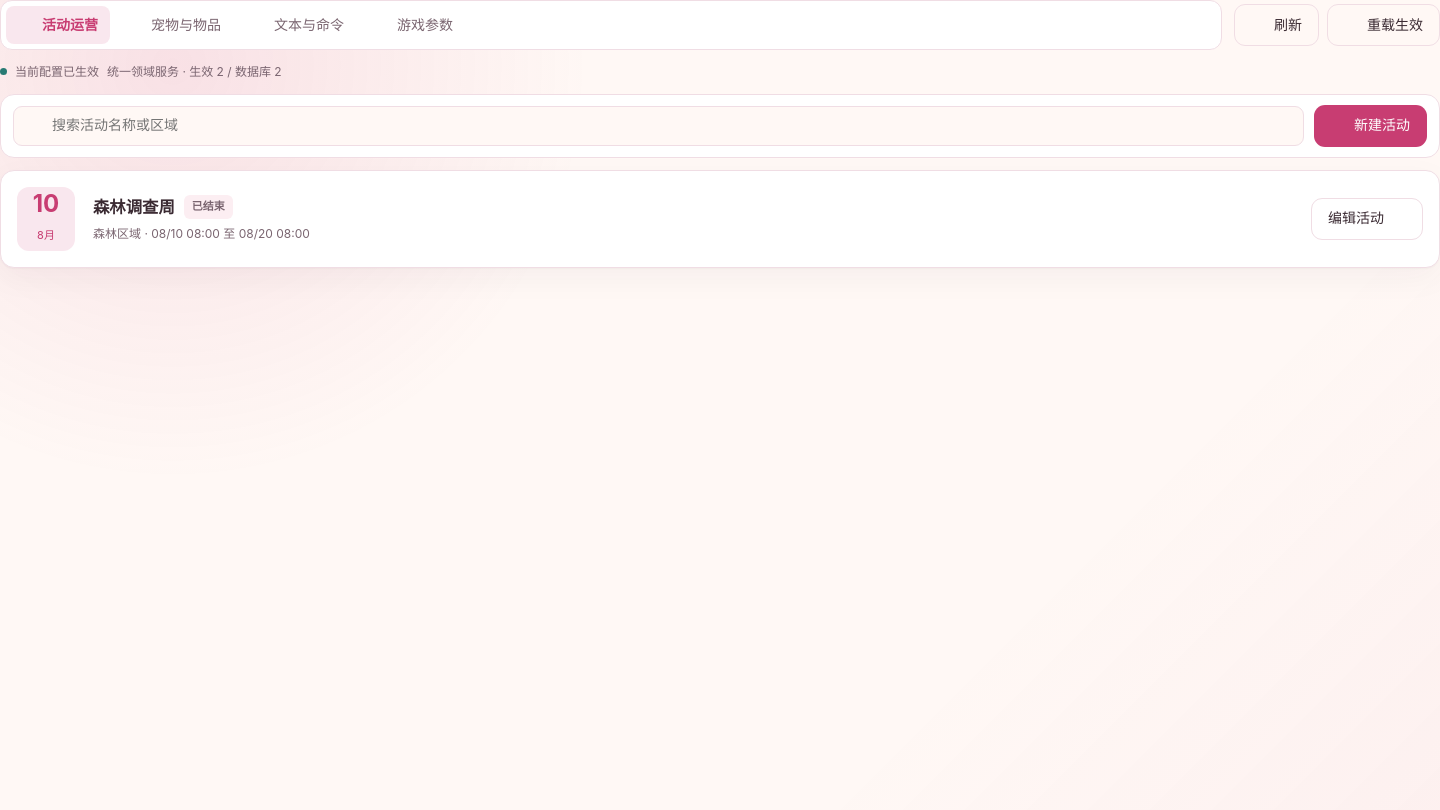
Test: ContentView 内容工作台 › 物品与商店支持多选和列表内联库存字段
Click the button "宠物与物品". click: (174, 25)
box: [115,6,233,44]
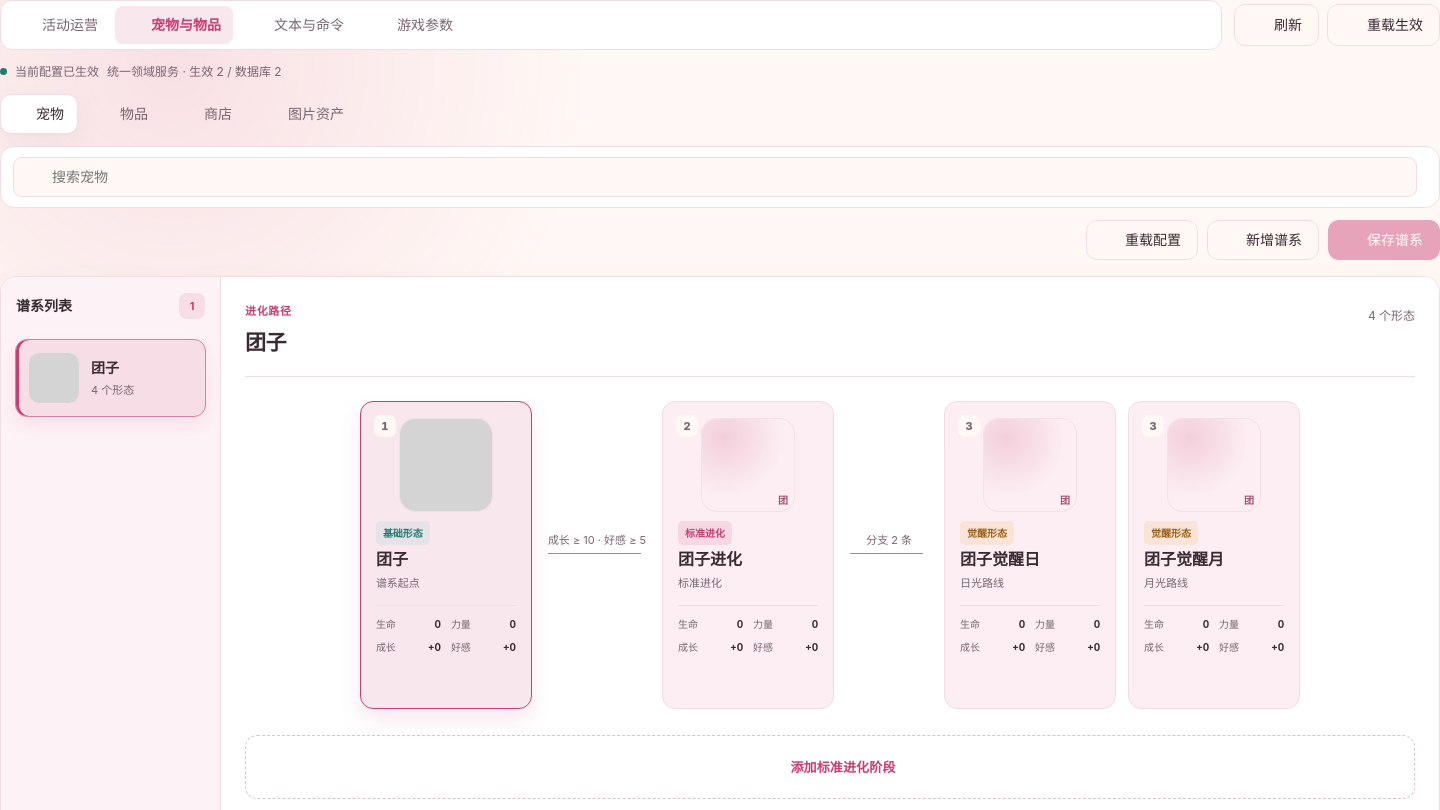
Expected: the button "物品" is shown
Click the button "物品". click: (123, 114)
box: [84,94,162,134]
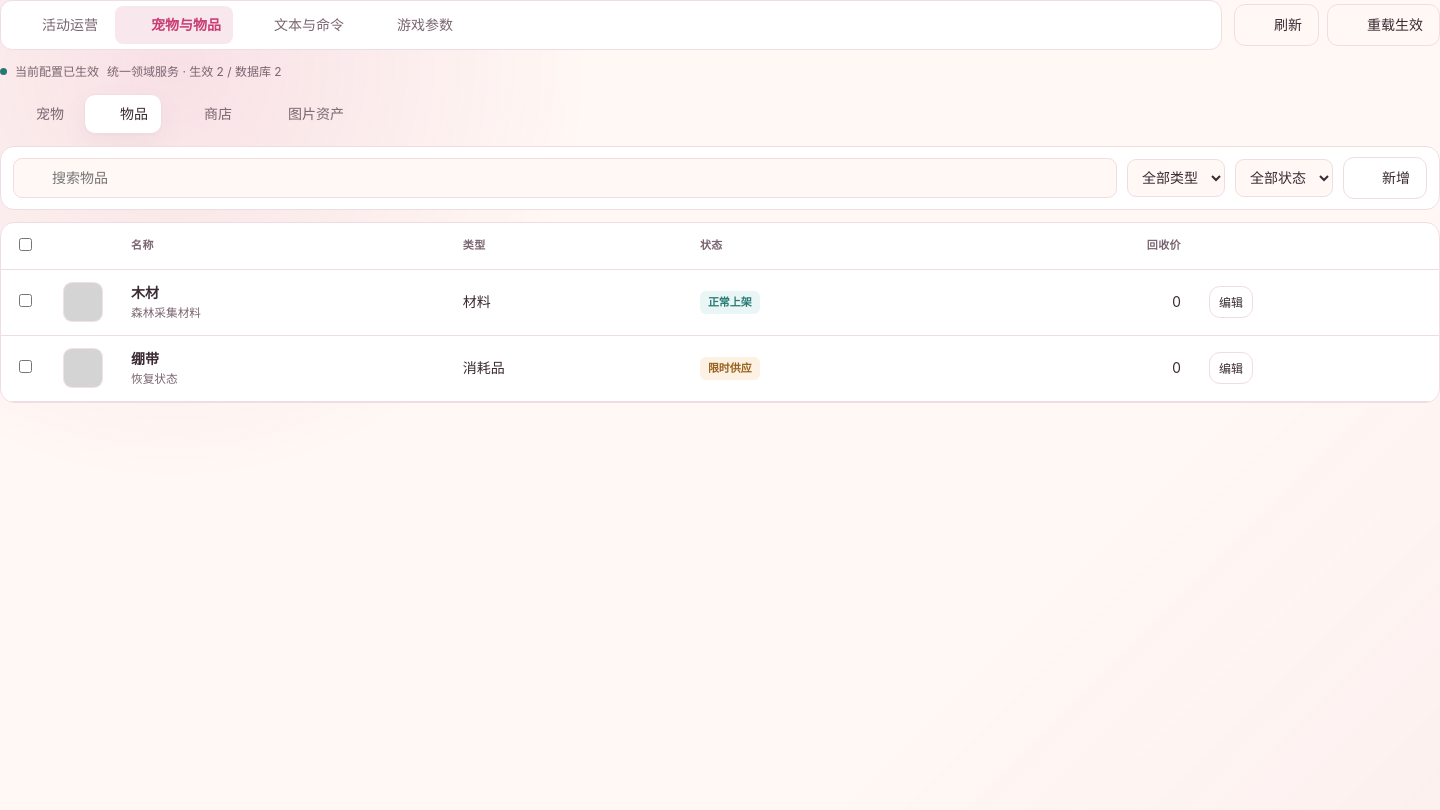
Expected: the text "批量设置状态" is not shown
Click the checkbox named "选择木材". click: (26, 300)
box: [19,294,32,307]
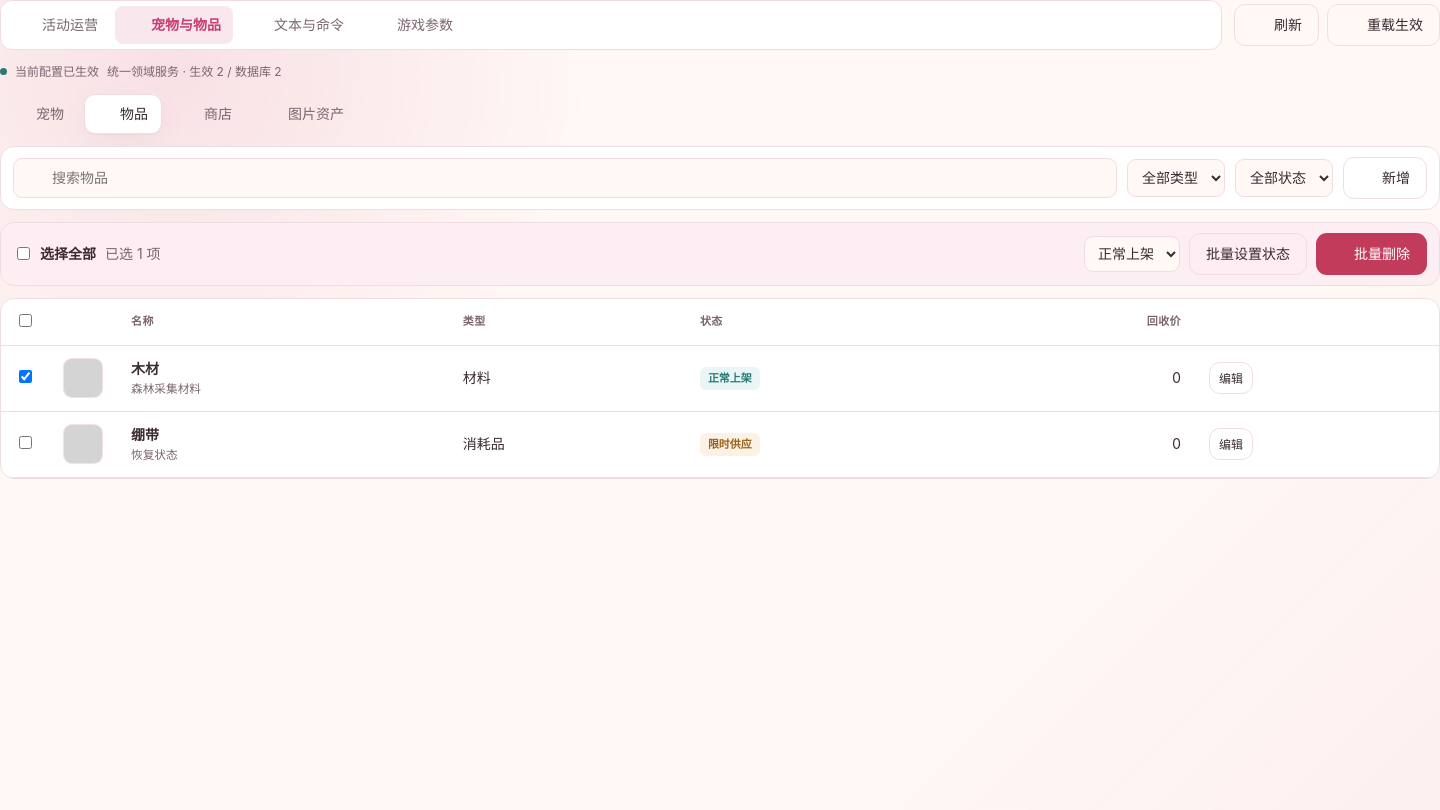
Expected: the button "商店" is shown
Expected: the text "批量设置状态" is shown, [1189,233,1307,275]
Expected: the text "批量删除" is shown, [1316,233,1427,275]
Click the button "商店". click: (207, 114)
box: [168,94,246,134]
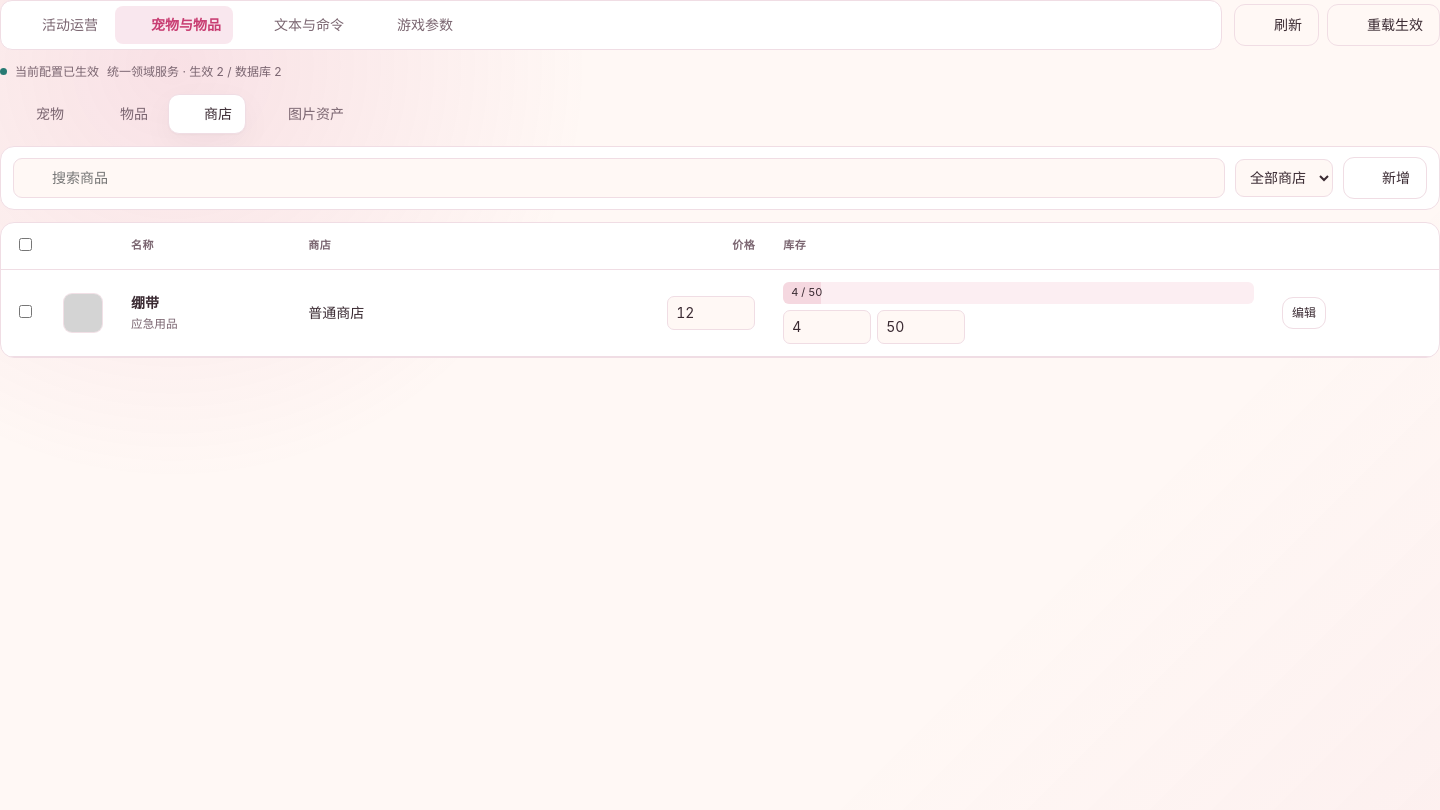
Expected: the number field named "绷带价格" is shown, [667,296,755,330]
Expected: the number field named "绷带库存" is shown, [783,310,871,344]
Expected: the number field named "绷带目标库存" is shown, [877,310,965,344]
